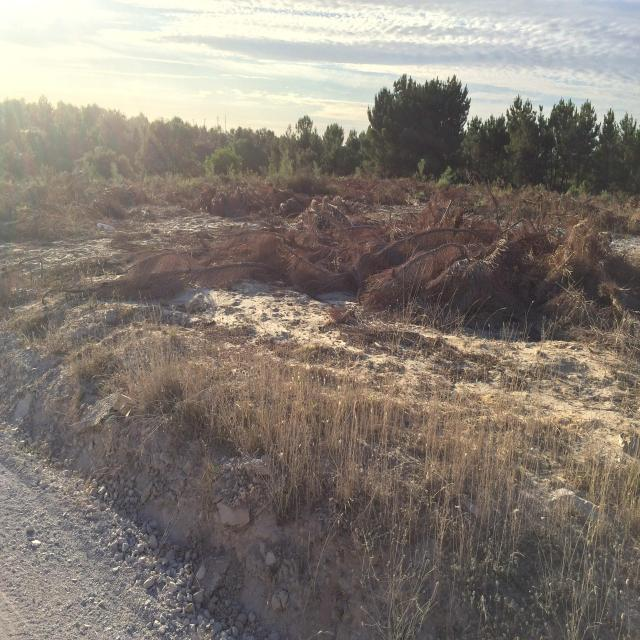Drink carton: (97, 222, 116, 231)
